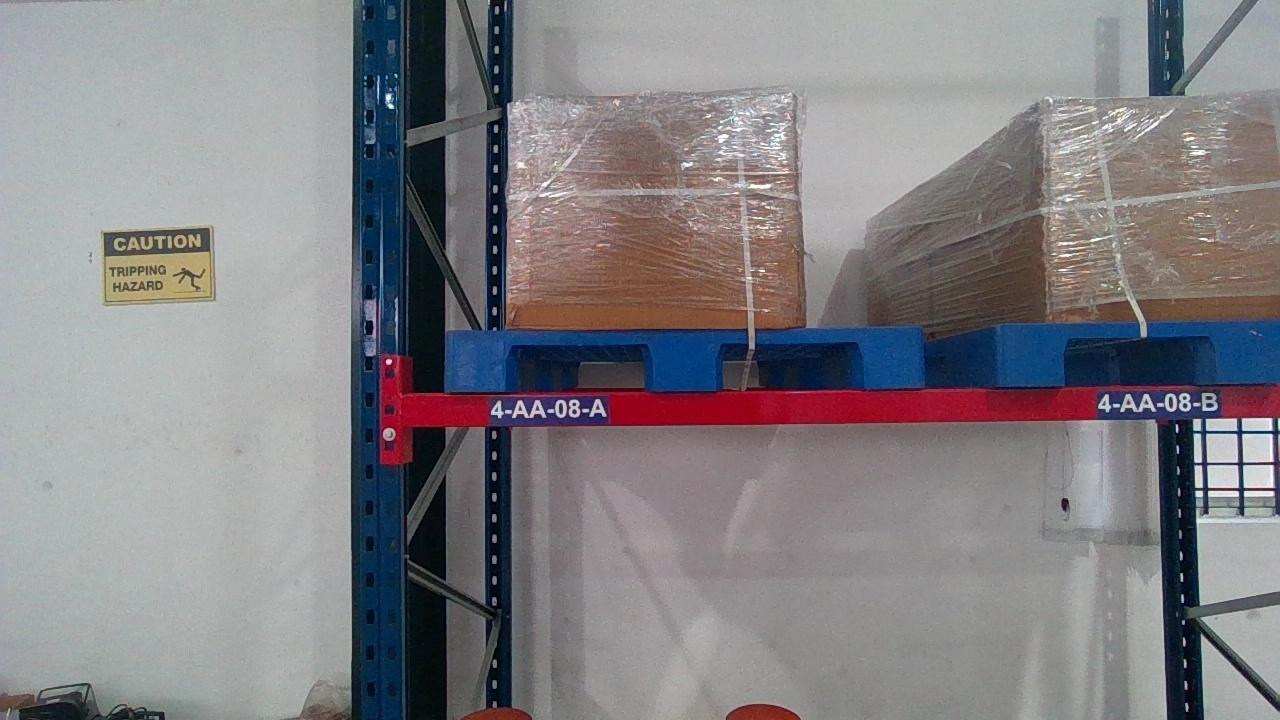h_rack: (410, 385, 1278, 424)
small_pallet: (441, 327, 923, 388), (998, 320, 1278, 381)
